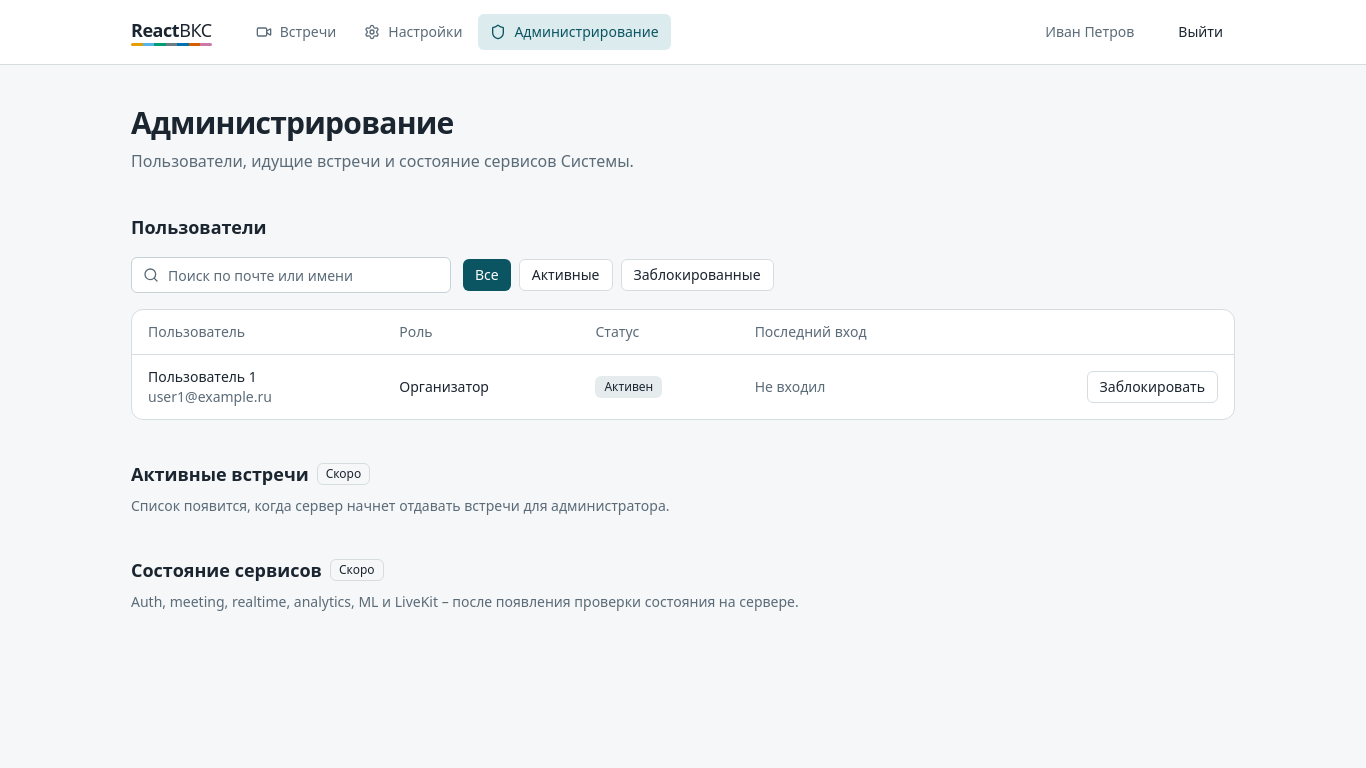
админка: пользователи (режим http) › PATCH 409 last_admin: понятное сообщение, диалог остается
Click the button with aria-label "Заблокировать: Пользователь 1" at x=1152, y=387, box 1087,371 -> 1218,403
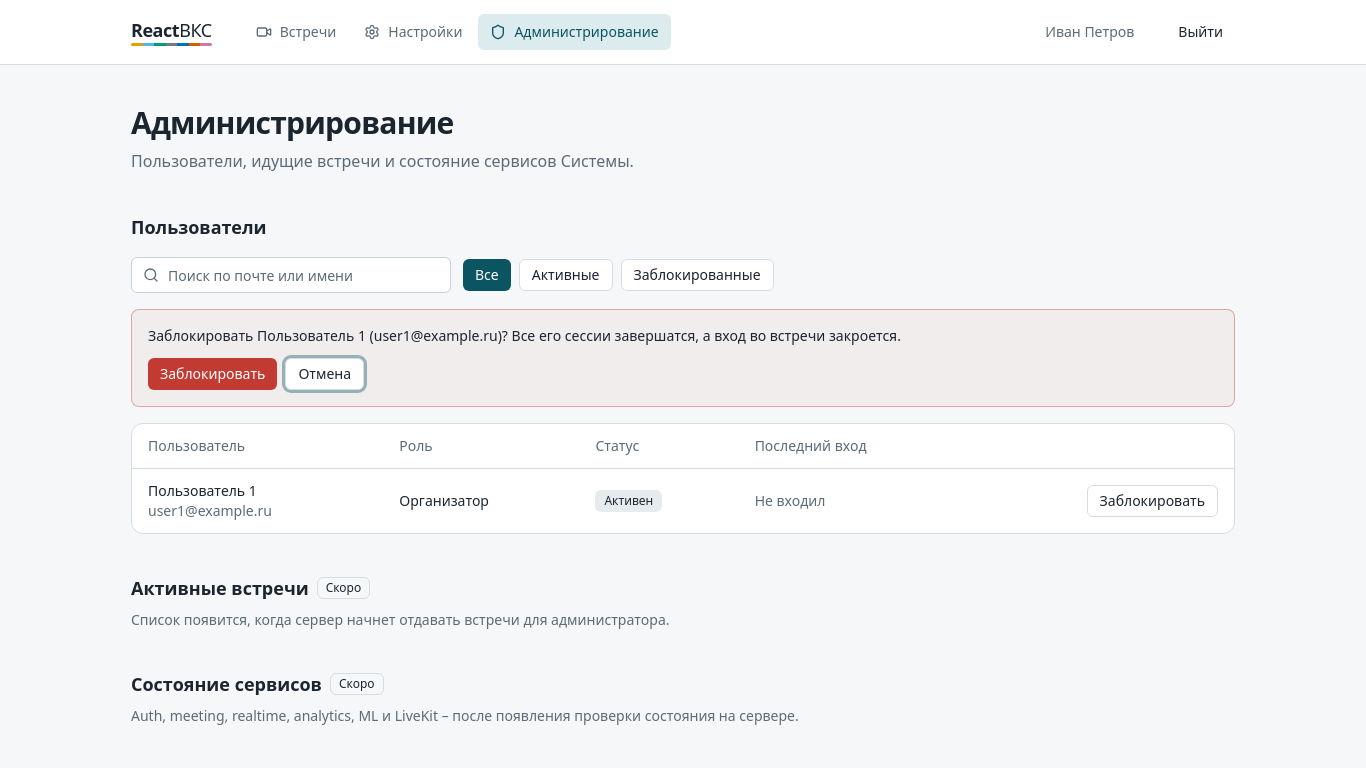
Click the 1st button "Заблокировать" at x=213, y=374, box 148,358 -> 277,390
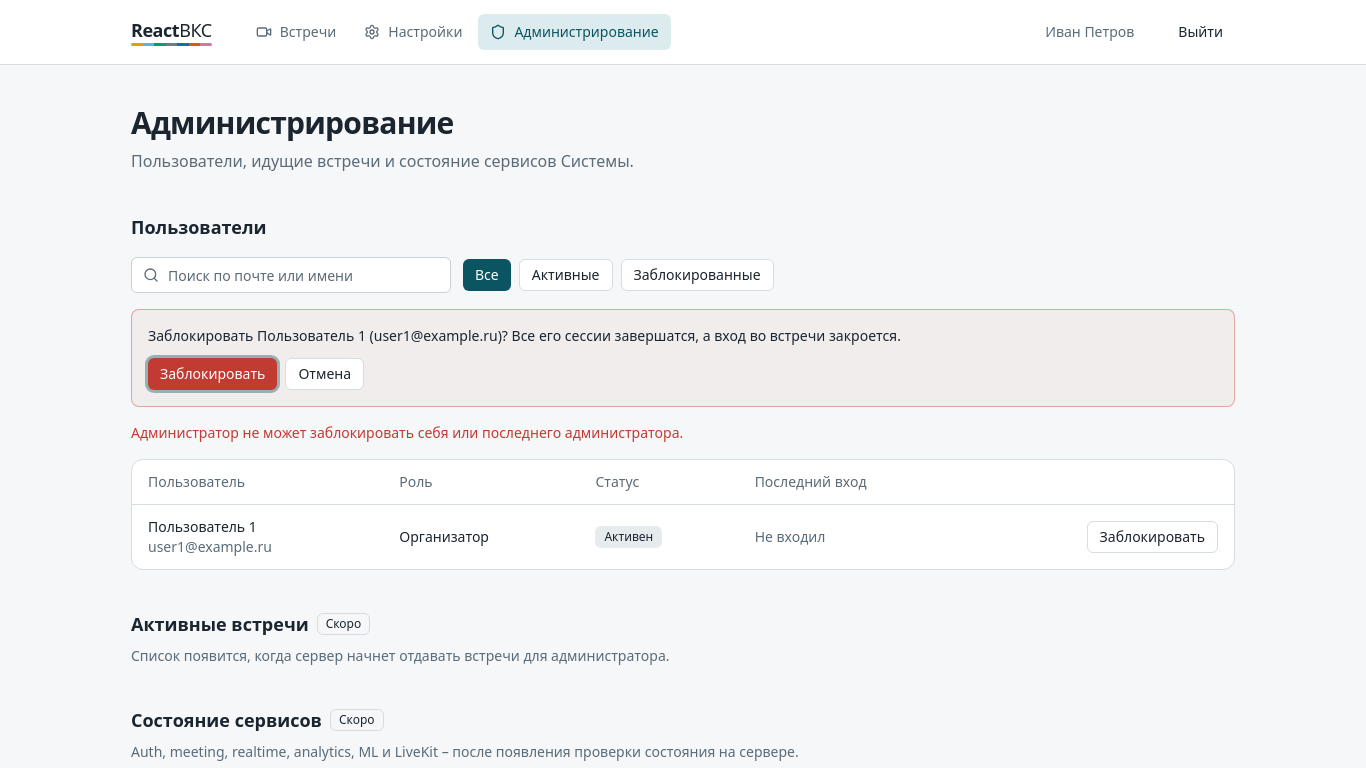
Check: the dialog is shown, box 131,309 -> 1235,407
Check: the message shows "не может заблокировать себя или последнего", box 131,423 -> 683,442
